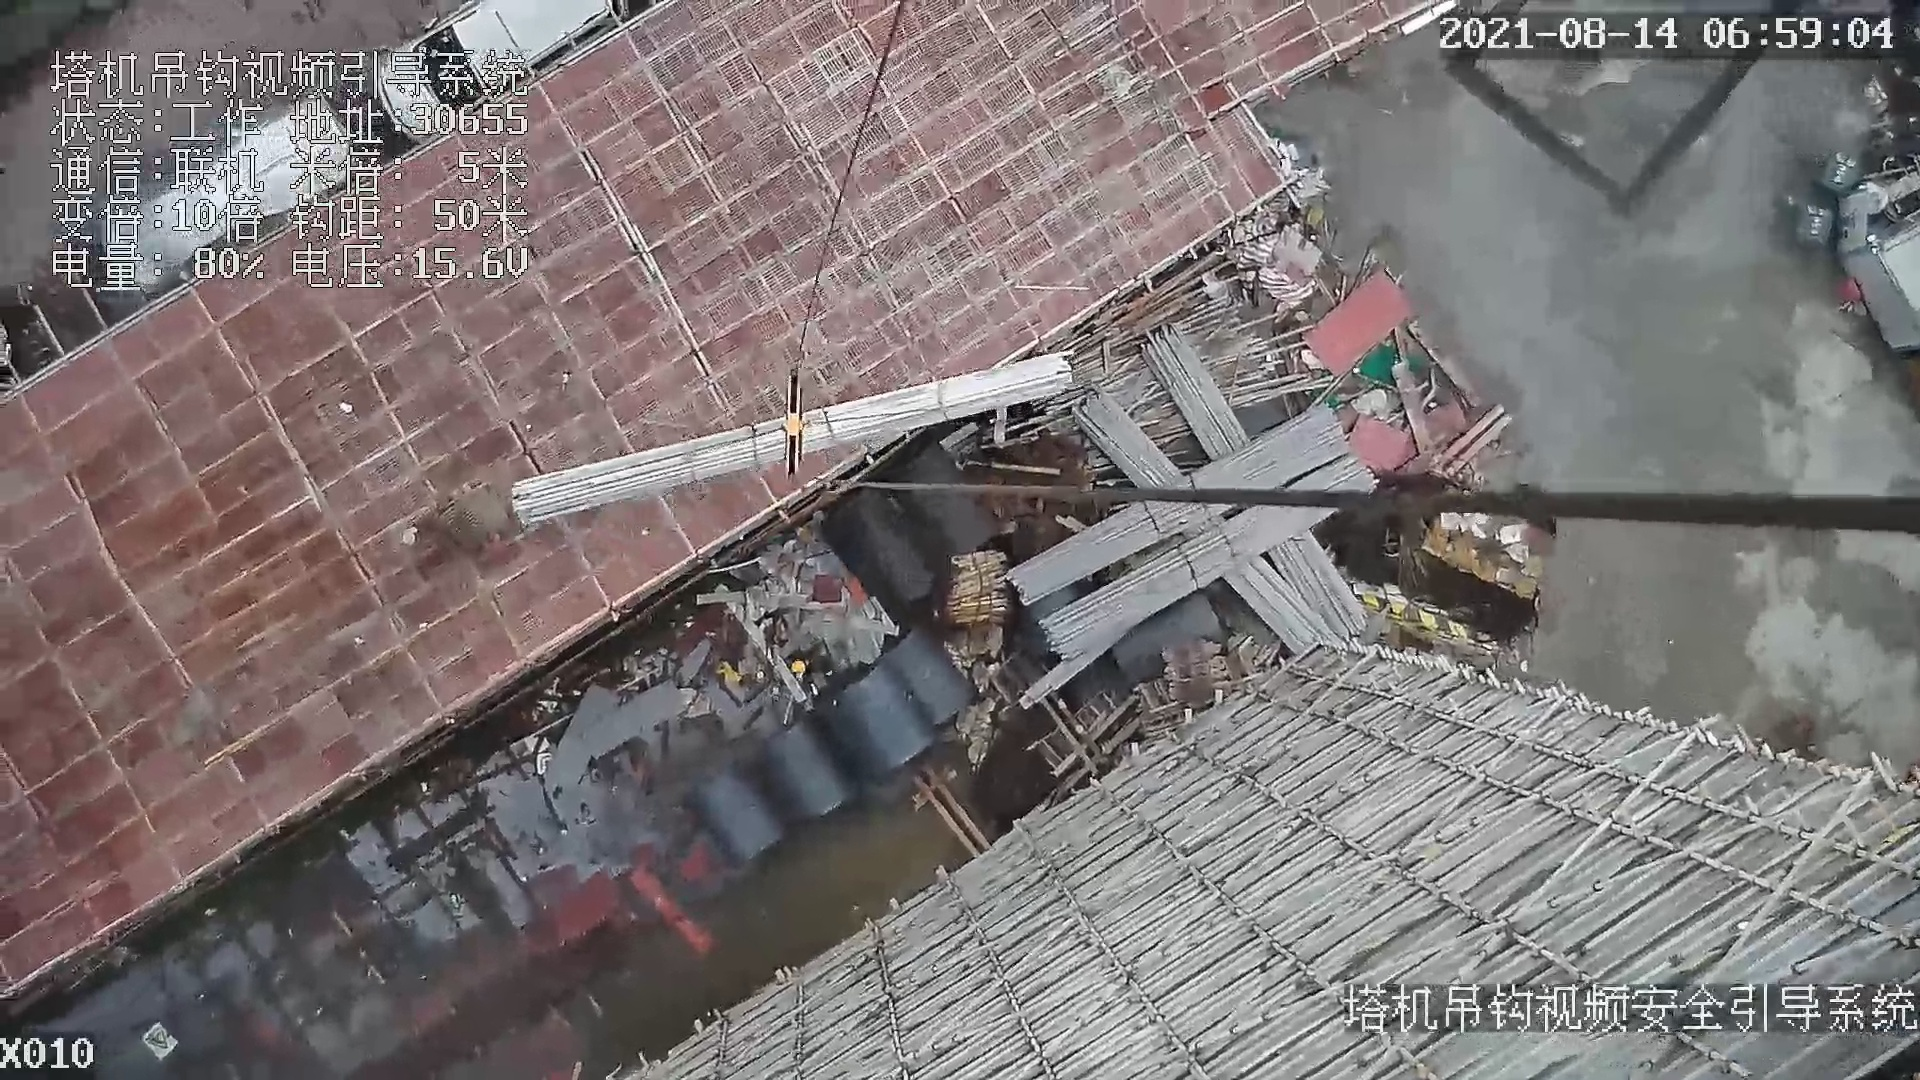hook: (771, 368, 810, 476)
rebar: (508, 349, 1075, 524), (1142, 324, 1370, 638), (1005, 404, 1348, 607), (1039, 460, 1379, 661), (1079, 388, 1327, 654)
wood: (949, 549, 1006, 625)
